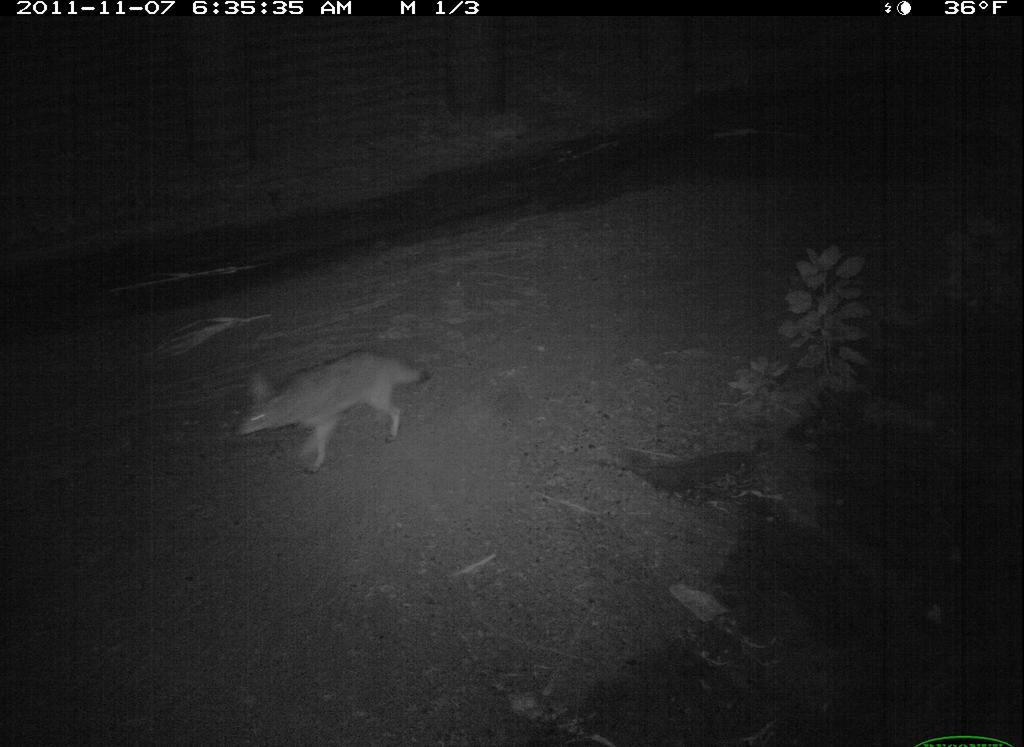coyote: (230, 344, 436, 479)
